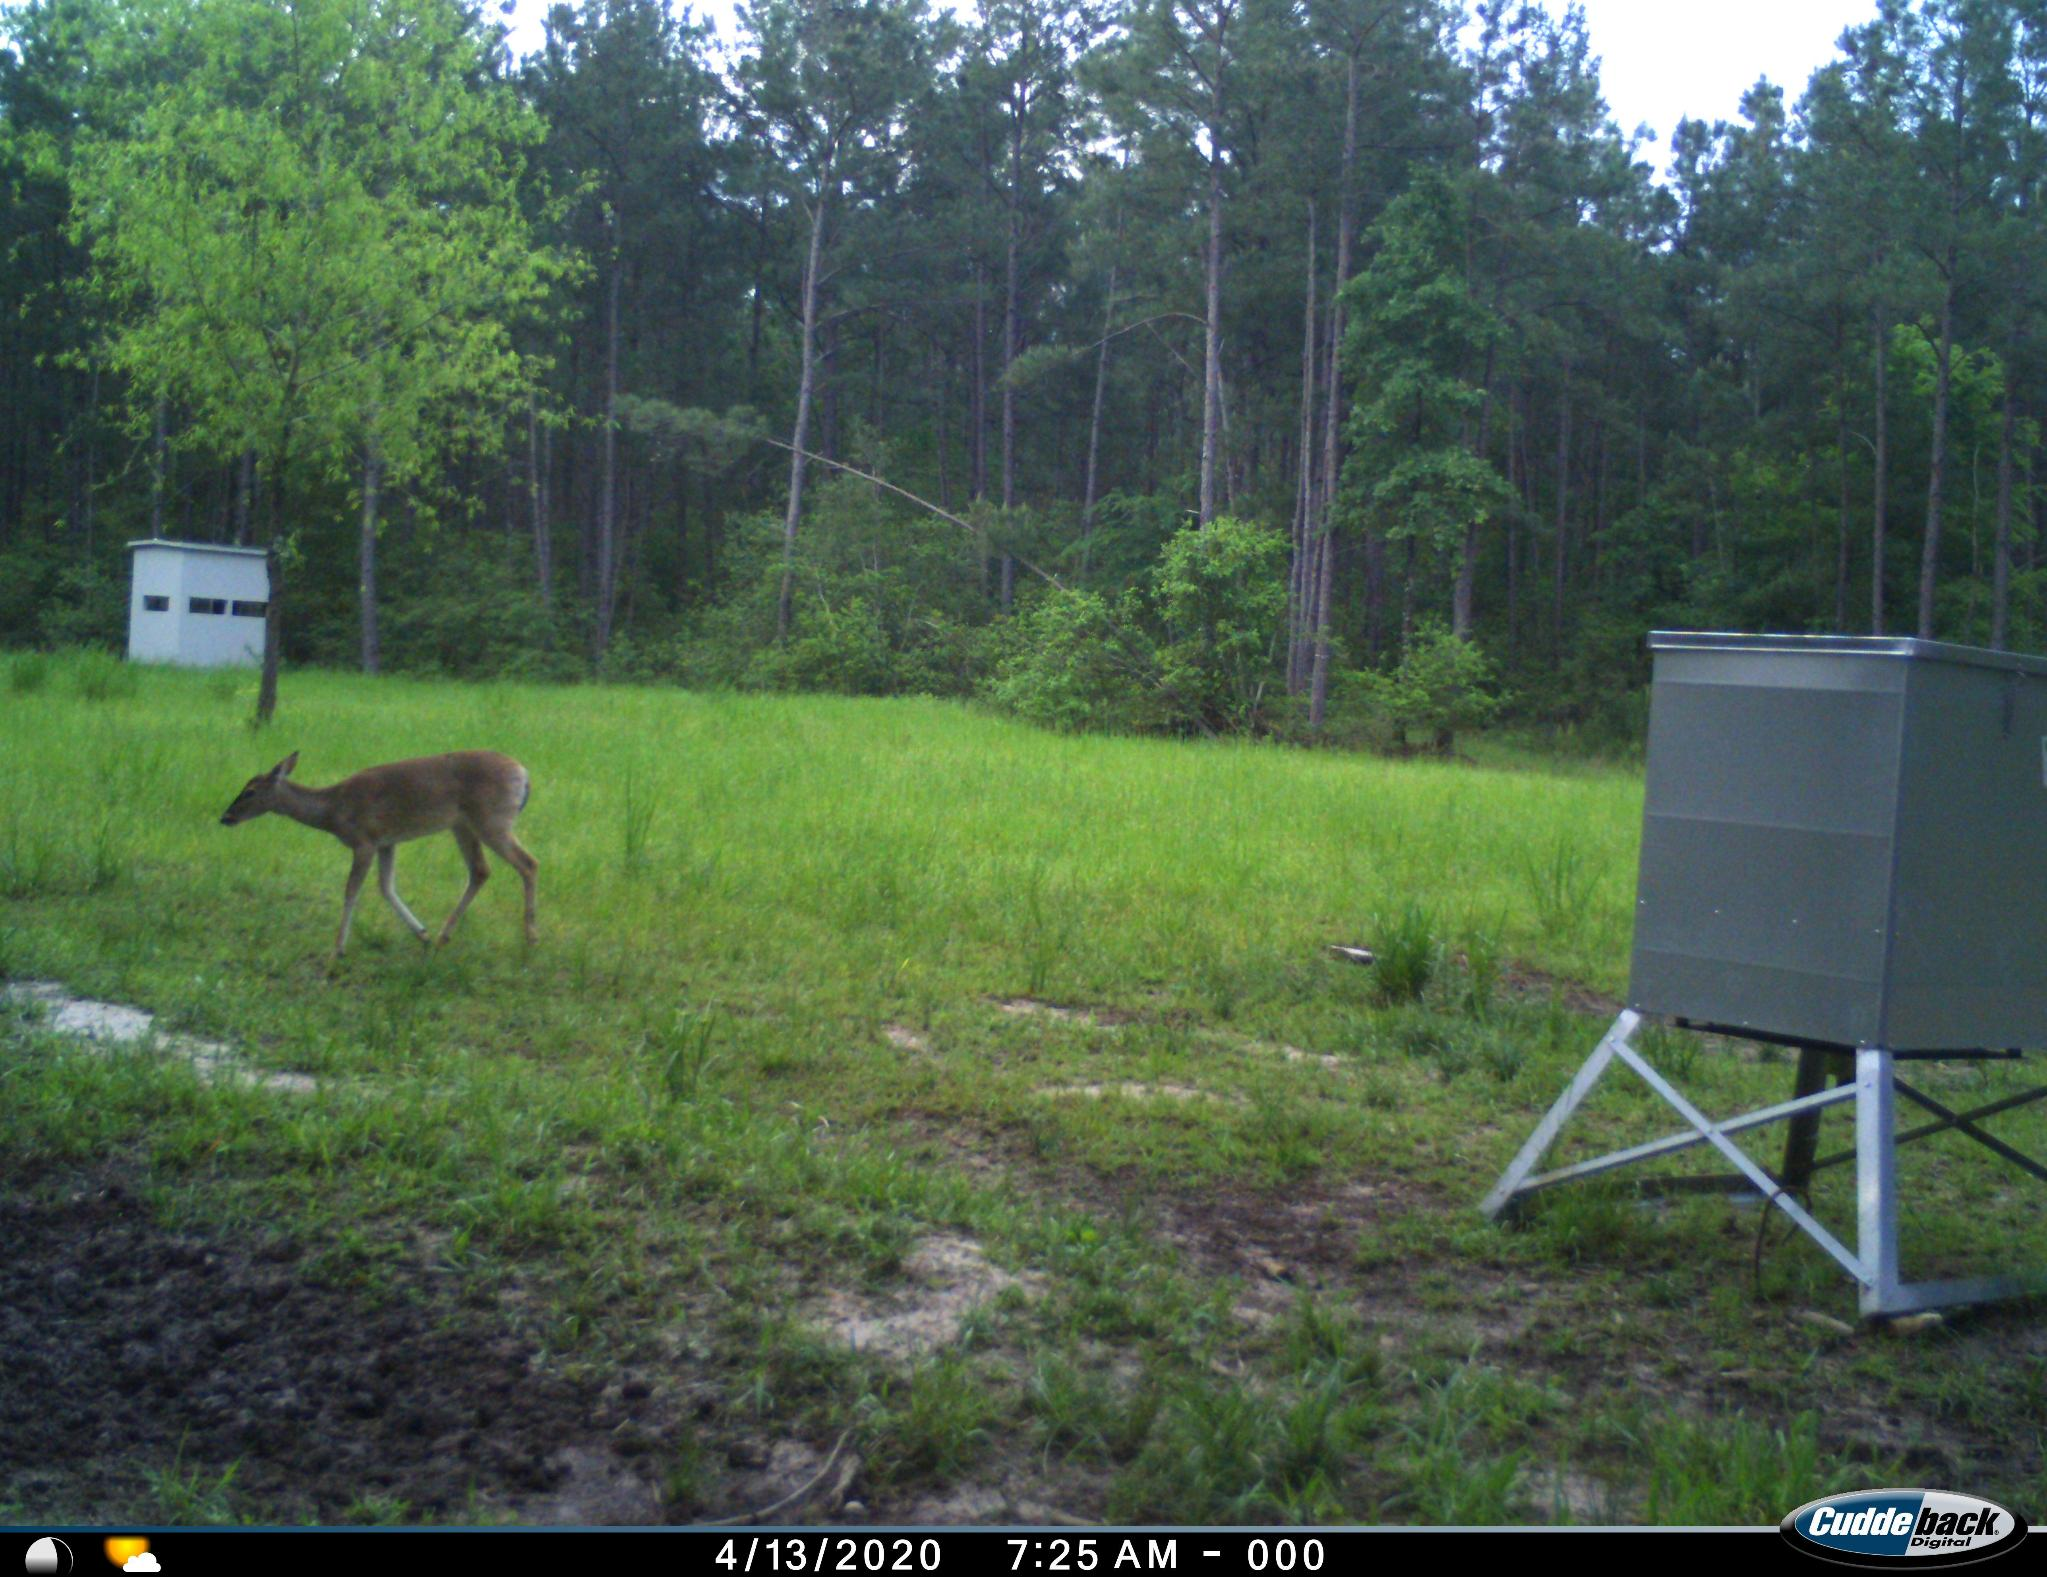Deer: (202, 742, 573, 984)
